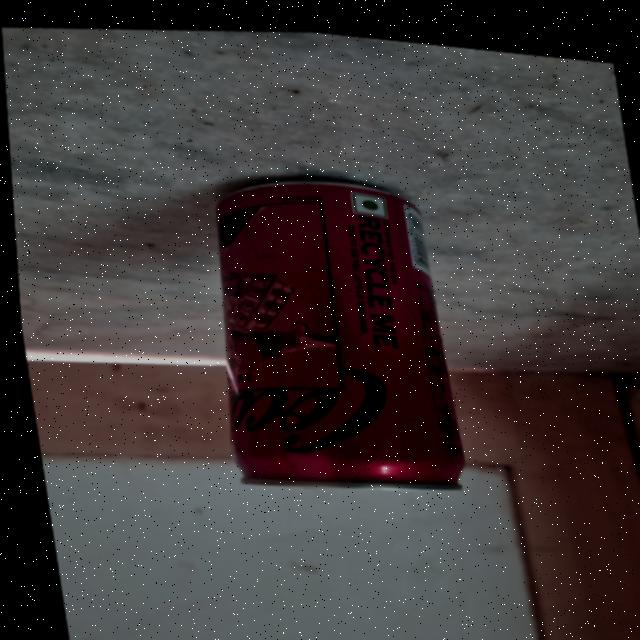Coca Cola Zero: (198, 163, 463, 507)
